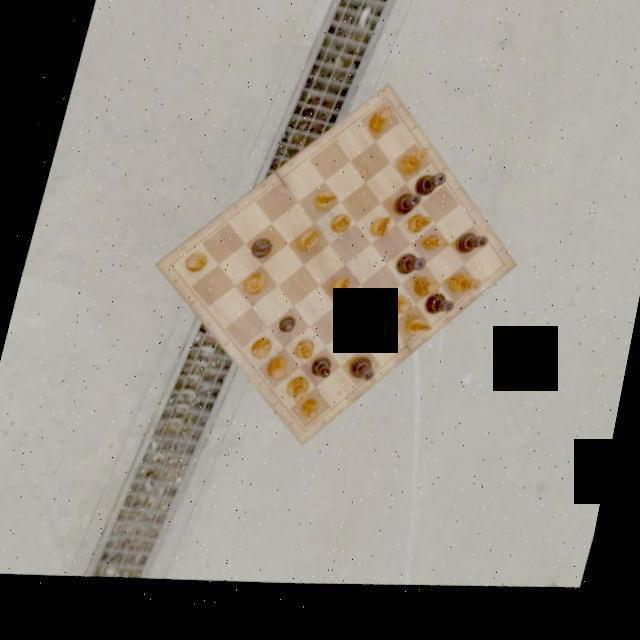chess-table-corners: (148, 255, 184, 289), (282, 422, 312, 456), (363, 96, 393, 129), (480, 265, 510, 295)
